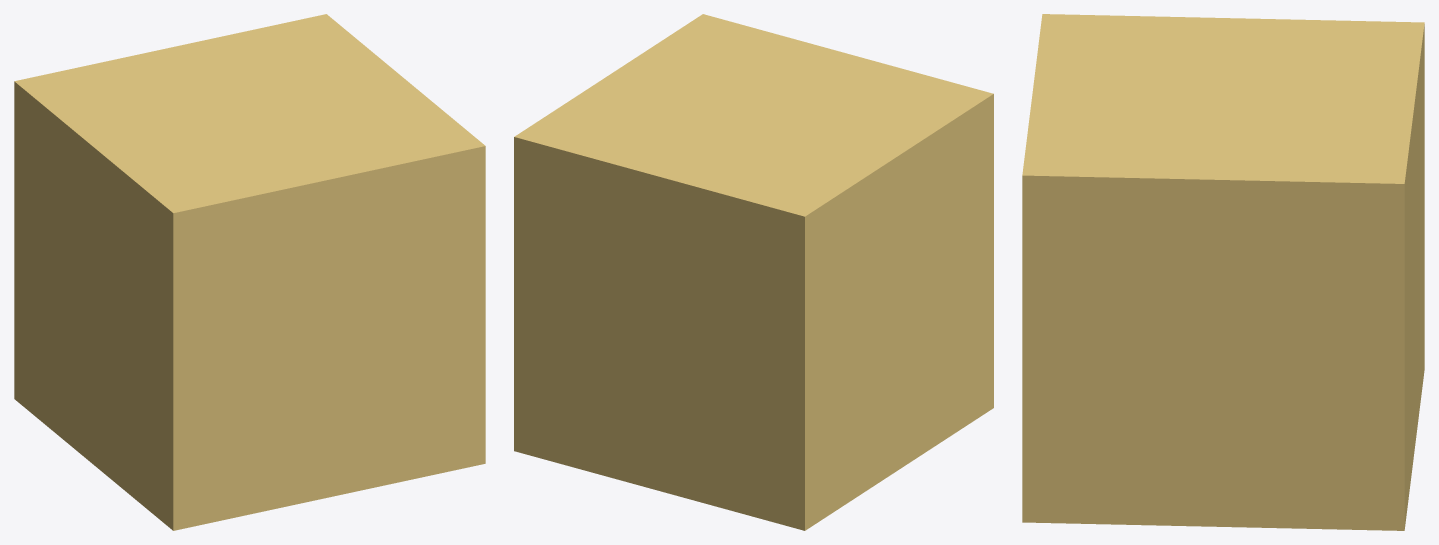
The model's file is spin.glb.
3 renders of one model, left to right at view 1: azimuth 30°, elevation 25°; view 2: azimuth 150°, elevation 25°; view 3: azimuth 270°, elevation 25°, orthographic. The views are drawn at different scales.
Parts seen in each view (by area): view 1: Cube; view 2: Cube; view 3: Cube.
Boxes of the visible parts, x1,y1,x2,y2 form: Cube: (14,14,485,530); Cube: (514,14,993,530); Cube: (1022,14,1424,530).
Bounding box in the file's own units: 1.68 × 1.6 × 1.68.
